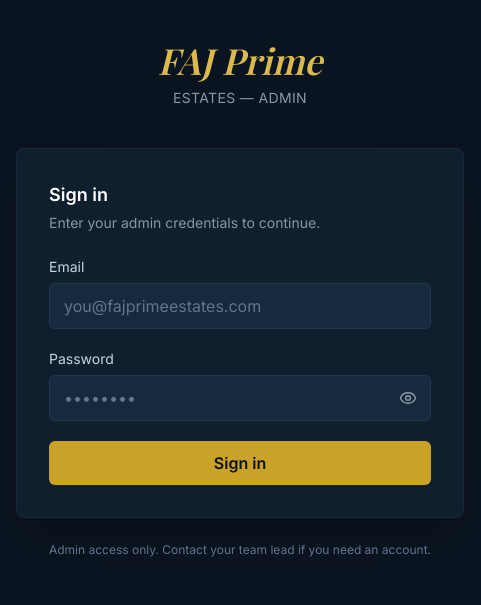
Scenario: Login page › shows the backend's error message on failed login, without exposing which field was wrong
Type "admin@example.com" into the field labelled "Email" at coordinates (240, 306), box 49,283 -> 431,329
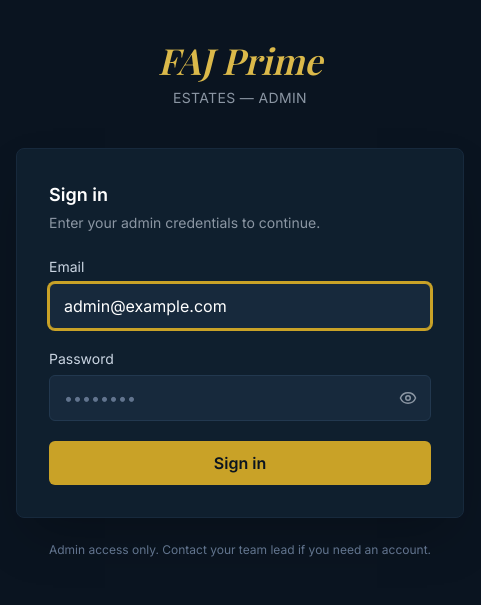
Type "wrongpassword" into the password field labelled "Password" at coordinates (240, 398), box 49,375 -> 431,421
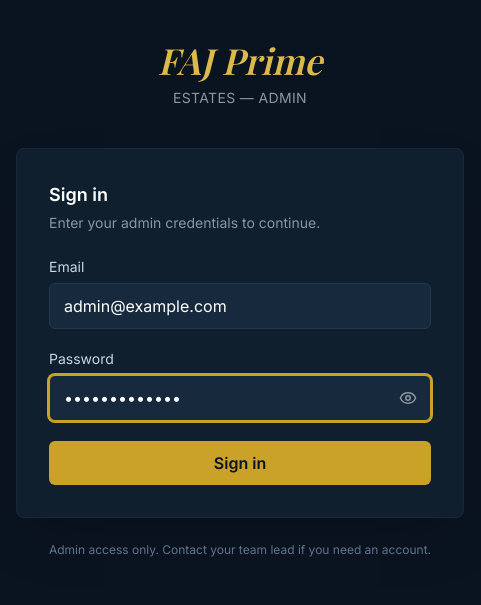
Click the button "Sign in" at coordinates (240, 463), box 49,441 -> 431,485
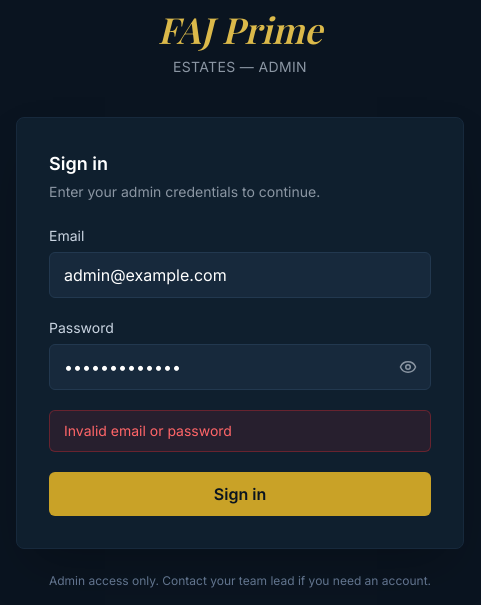
Now the text "Invalid email or password" is shown, box 64,422 -> 232,439
